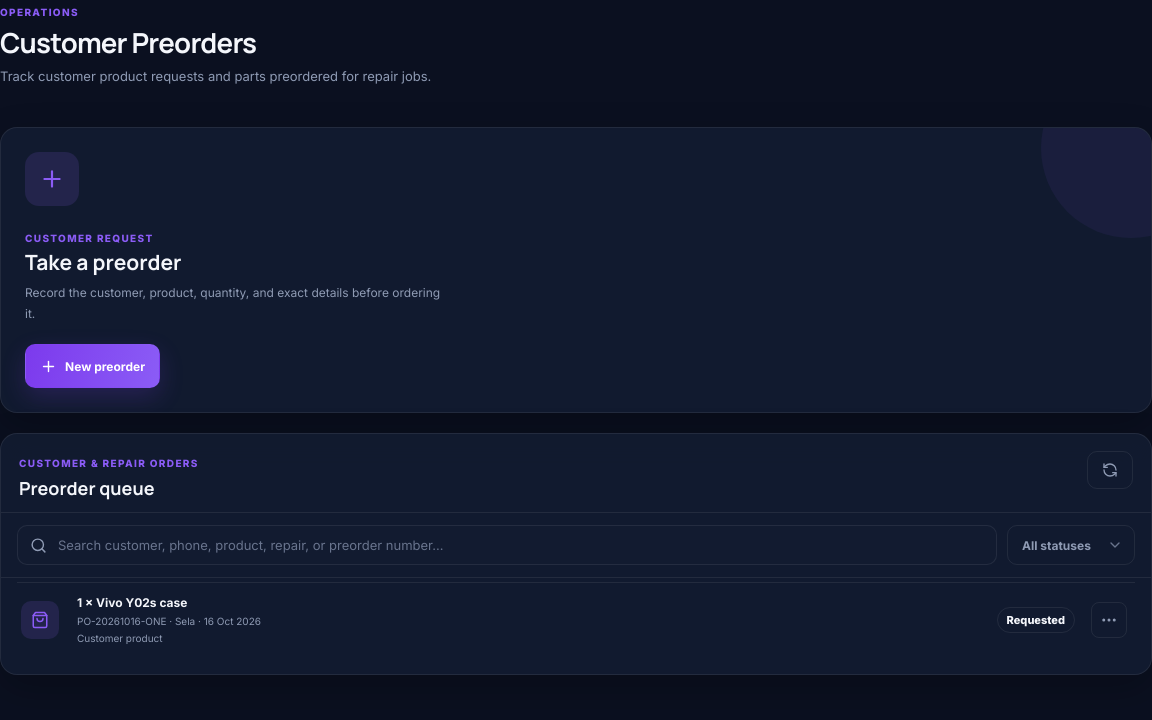
Test: CustomerPreorderWorkspace › shows preorder history as a newest-first timeline with dates and notes
Click the button with aria-label "Open preorder PO-20261016-ONE". click: (40,620)
box: [17,582,1135,658]
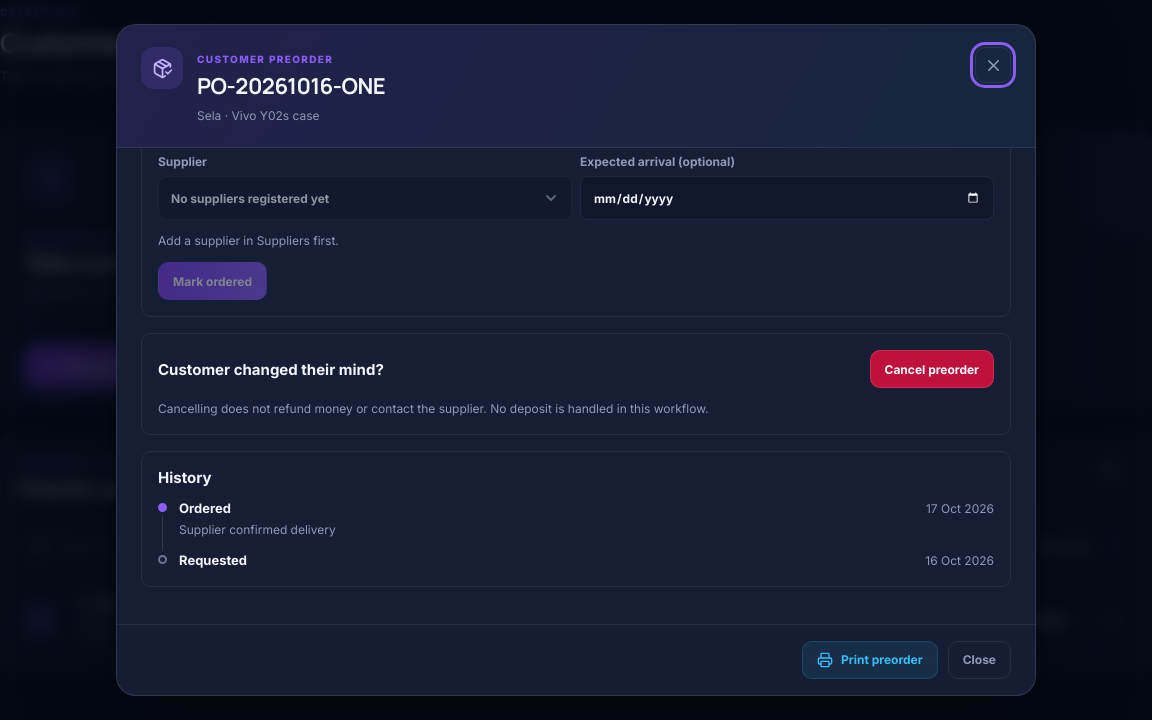
expect the number of list items is 2: met, box [158,499,994,551]; [158,551,994,570]
expect the text "Ordered" is shown: met, box [179,499,231,517]
expect the text "Supplier confirmed delivery" is shown: met, box [179,522,336,537]
